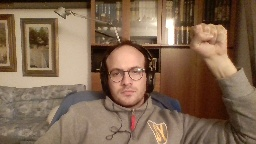Pugno: (186, 21, 229, 56)
